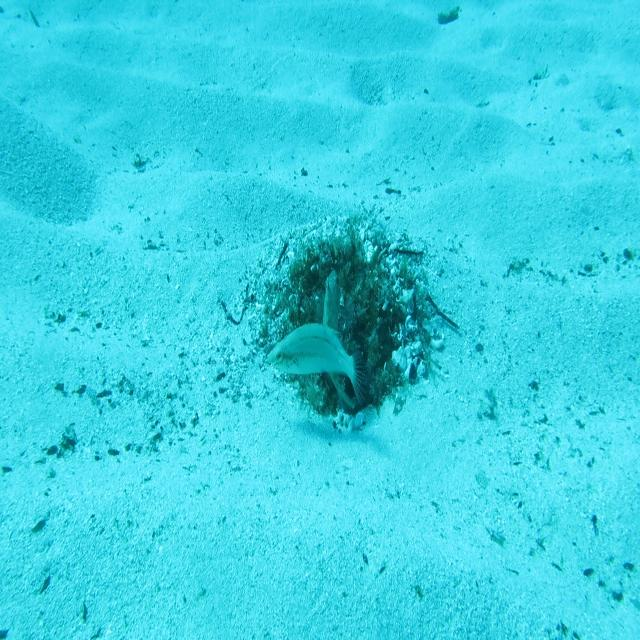ROLL: (321, 266, 358, 413)
core_nest: (312, 266, 366, 307)
female: (266, 318, 370, 411)
nest: (241, 203, 456, 439)
vegetation: (437, 9, 462, 26)
